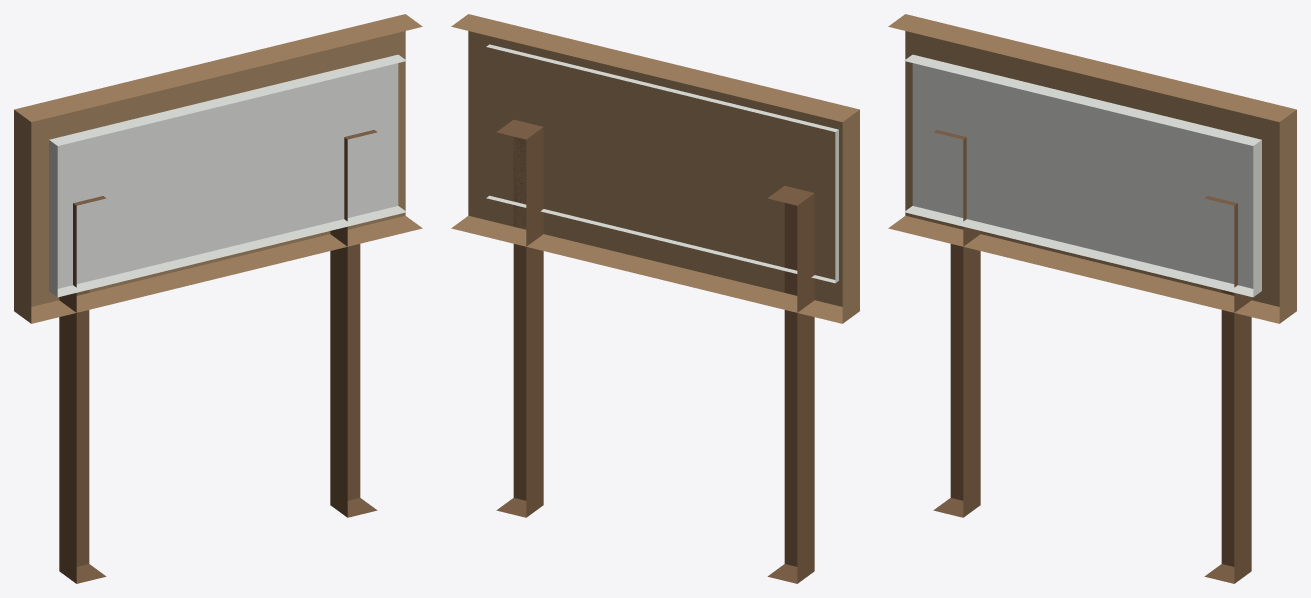
Rendered from welcomeSign.glb.
3 renders of one model, left to right at view 1: azimuth 30°, elevation 25°; view 2: azimuth 150°, elevation 25°; view 3: azimuth 330°, elevation 25°, orthographic.
Visible parts, largest first — view 1: welcomeSign; view 2: welcomeSign; view 3: welcomeSign.
Boxes of the visible parts, left/top/right/bottom form: welcomeSign: left=14, top=14, right=422, bottom=583; welcomeSign: left=451, top=14, right=859, bottom=583; welcomeSign: left=888, top=14, right=1296, bottom=583.
Size of the model in its own units: 1.3 by 1.5 by 0.13.
